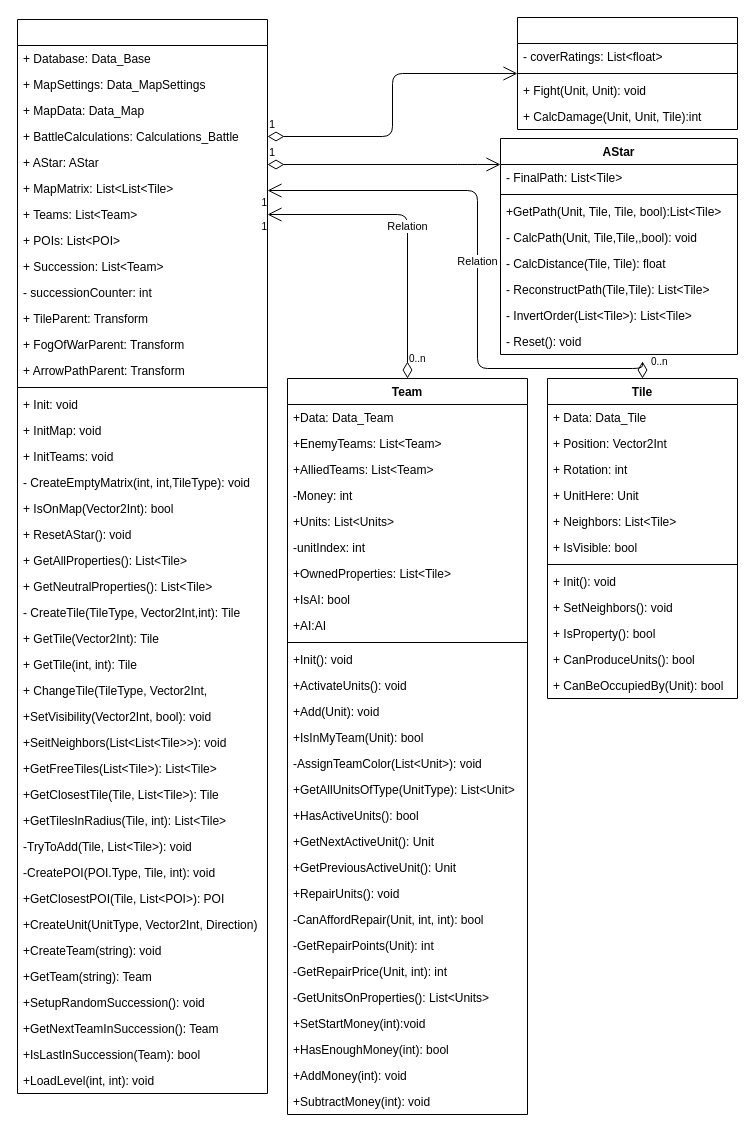
The diagram is 755 pixels wide and 1135 high, and some of its shapes have lost their labels. The shapes that lost their labels are listed below. From the top down, each one's box as (x1, y1, x2, y2) in pixels, then its label:
(516, 16, 738, 130): Calculations_Battle
(16, 18, 268, 1094): Model
